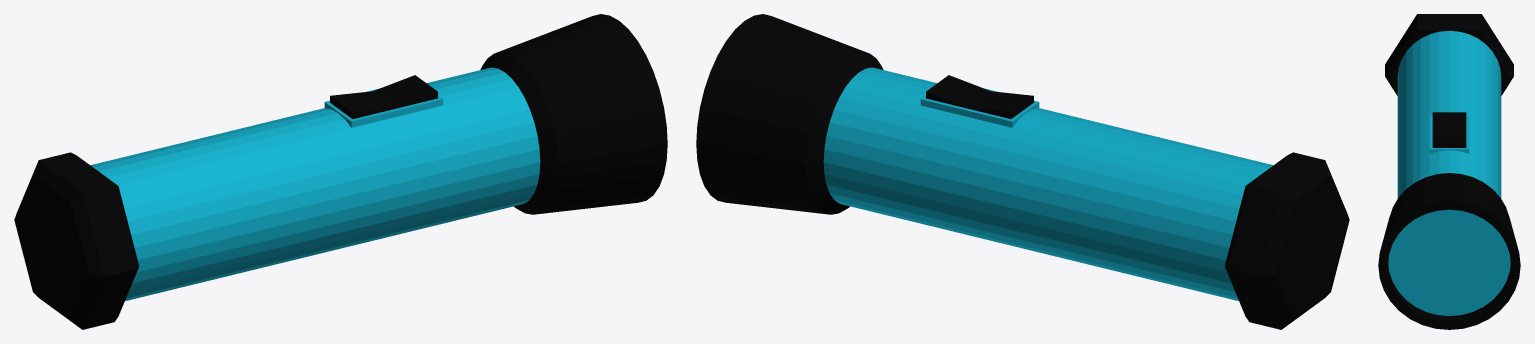
File: FlashLightUV.fbx
3 views of the same model, side by side, from view 1: azimuth 30°, elevation 25°; view 2: azimuth 150°, elevation 25°; view 3: azimuth 270°, elevation 25° (orthographic). The views are drawn at different scales.
Parts seen in each view (by area): view 1: Cylinder.001; view 2: Cylinder.001; view 3: Cylinder.001.
Part boxes in pixels (x1,y1,x2,y2): Cylinder.001: (14,14,667,329); Cylinder.001: (696,14,1349,329); Cylinder.001: (1378,14,1520,329).
Size of the model in its own units: 26.05 by 7.68 by 7.68.
